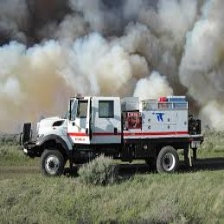smoke: (1, 2, 222, 97)
